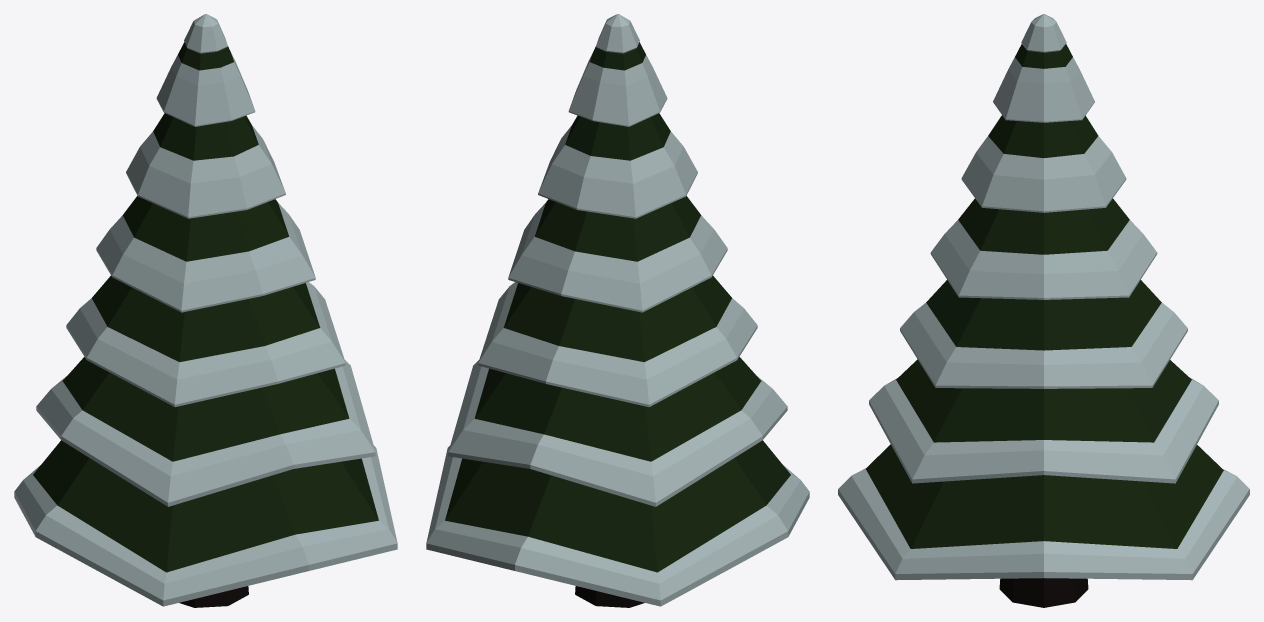
Rendered from tree.obj.
3 views of the same model, side by side, from view 1: azimuth 30°, elevation 25°; view 2: azimuth 150°, elevation 25°; view 3: azimuth 270°, elevation 25° (orthographic).
Visible parts, largest first — view 1: Snow_PineTree_Cylinder.003; view 2: Snow_PineTree_Cylinder.003; view 3: Snow_PineTree_Cylinder.003.
Part boxes in pixels (left/top/right/bottom): Snow_PineTree_Cylinder.003: left=14, top=14, right=397, bottom=607; Snow_PineTree_Cylinder.003: left=426, top=14, right=809, bottom=607; Snow_PineTree_Cylinder.003: left=838, top=14, right=1249, bottom=607.
Size of the model in its own units: 4.75 by 7.66 by 4.97.
